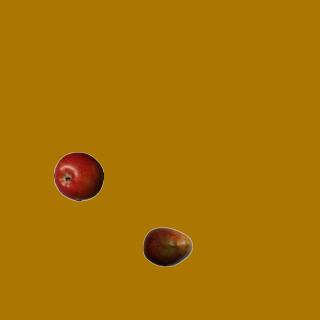Apple Braeburn: (53, 151, 103, 201)
Mango Red: (142, 221, 192, 271)
